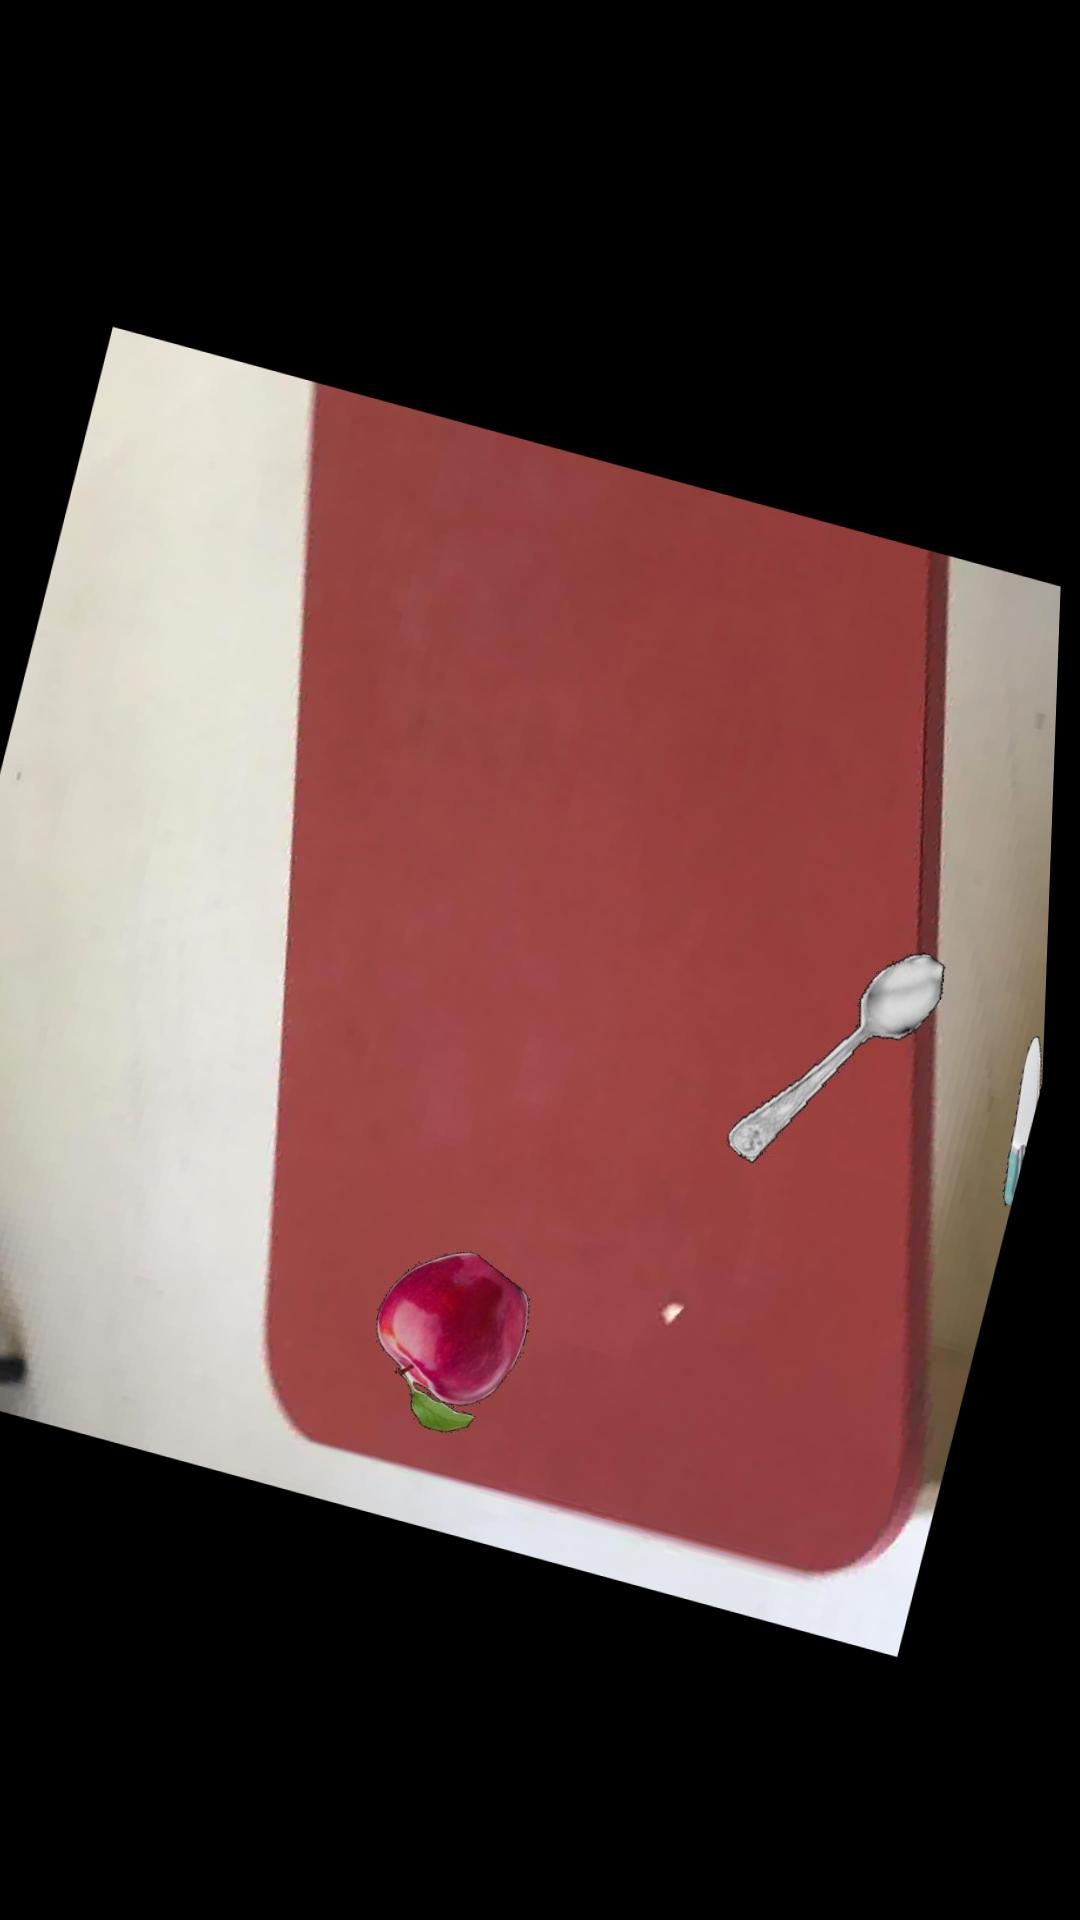apple: (384, 1244, 537, 1424)
knife: (1009, 1021, 1047, 1191)
spoon: (733, 939, 949, 1151)
